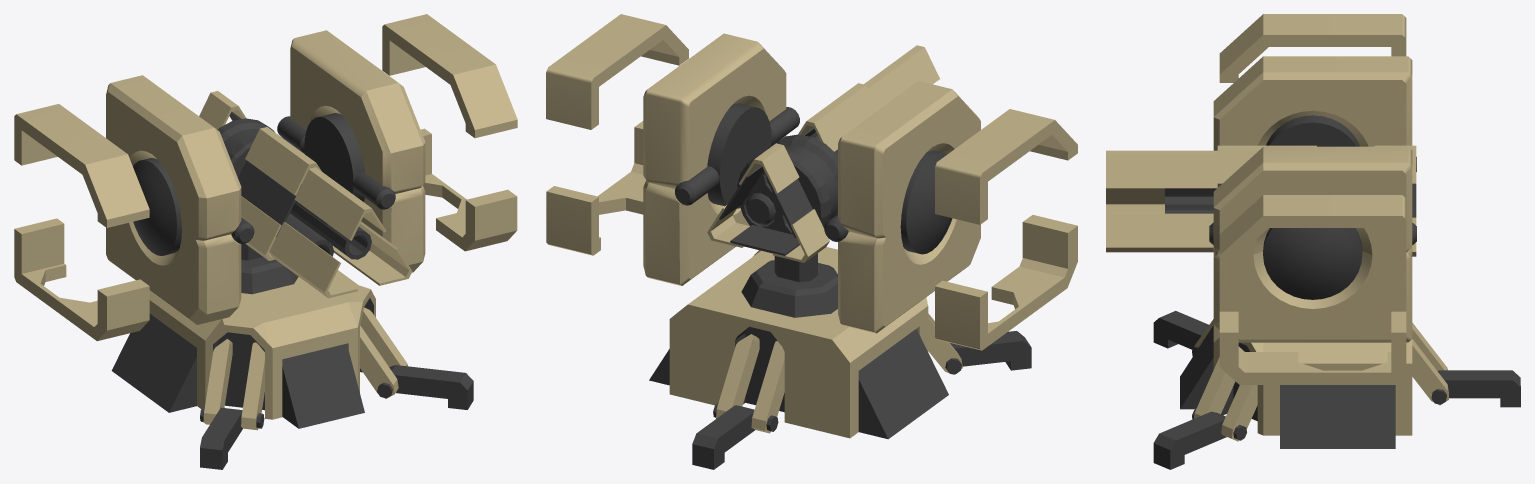
The model's file is SM_BasicTurret_Tex.fbx.
3 renders of one model, left to right at view 1: azimuth 30°, elevation 25°; view 2: azimuth 150°, elevation 25°; view 3: azimuth 270°, elevation 25°, orthographic. The views are drawn at different scales.
Parts seen in each view (by area): view 1: Box062, Box061, polySurface131, Box059, polySurface133, polySurface132, polySurface136, polySurface135, polySurface126, Cylinder077, Cylinder080, polySurface130 (+11 smaller); view 2: Box062, Box061, polySurface131, Box059, polySurface136, polySurface132, polySurface133, Box060, polySurface135, Box063, pCylinder038, Cylinder080 (+11 smaller); view 3: Box062, polySurface131, Box060, Box061, polySurface133, polySurface132, Cylinder080, polySurface135, polySurface129, polySurface128, Cylinder077, polySurface130 (+3 smaller).
Boxes of the visible parts, bbox=[...] form: Box062: bbox=[111, 270, 473, 469]; Box061: bbox=[290, 30, 425, 193]; polySurface131: bbox=[106, 75, 241, 240]; Box059: bbox=[106, 222, 241, 324]; polySurface133: bbox=[382, 14, 517, 138]; polySurface132: bbox=[14, 104, 149, 227]; polySurface136: bbox=[14, 218, 149, 341]; polySurface135: bbox=[421, 128, 517, 251]; polySurface126: bbox=[199, 91, 321, 195]; Cylinder077: bbox=[133, 158, 181, 255]; Cylinder080: bbox=[304, 113, 364, 201]; polySurface130: bbox=[269, 222, 357, 298]; Box062: bbox=[649, 247, 1031, 469]; Box061: bbox=[643, 33, 786, 188]; polySurface131: bbox=[838, 81, 980, 238]; Box059: bbox=[838, 218, 980, 333]; polySurface136: bbox=[935, 215, 1077, 350]; polySurface132: bbox=[935, 109, 1077, 224]; polySurface133: bbox=[546, 14, 688, 129]; Box060: bbox=[643, 135, 786, 285]; polySurface135: bbox=[546, 121, 645, 255]; Box063: bbox=[741, 253, 837, 317]; pCylinder038: bbox=[737, 134, 837, 234]; Cylinder080: bbox=[707, 103, 771, 208]; Box062: bbox=[1153, 311, 1520, 469]; polySurface131: bbox=[1213, 56, 1412, 150]; Box060: bbox=[1213, 247, 1412, 342]; Box061: bbox=[1213, 146, 1412, 255]; polySurface133: bbox=[1219, 195, 1406, 263]; polySurface132: bbox=[1219, 14, 1406, 82]; Cylinder080: bbox=[1263, 228, 1362, 299]; polySurface135: bbox=[1219, 311, 1406, 384]; polySurface129: bbox=[1106, 150, 1217, 188]; polySurface128: bbox=[1106, 213, 1213, 252]; Cylinder077: bbox=[1266, 115, 1359, 146]; polySurface130: bbox=[1106, 188, 1164, 213].
Size of the model in its own units: 366 by 248 by 318.
